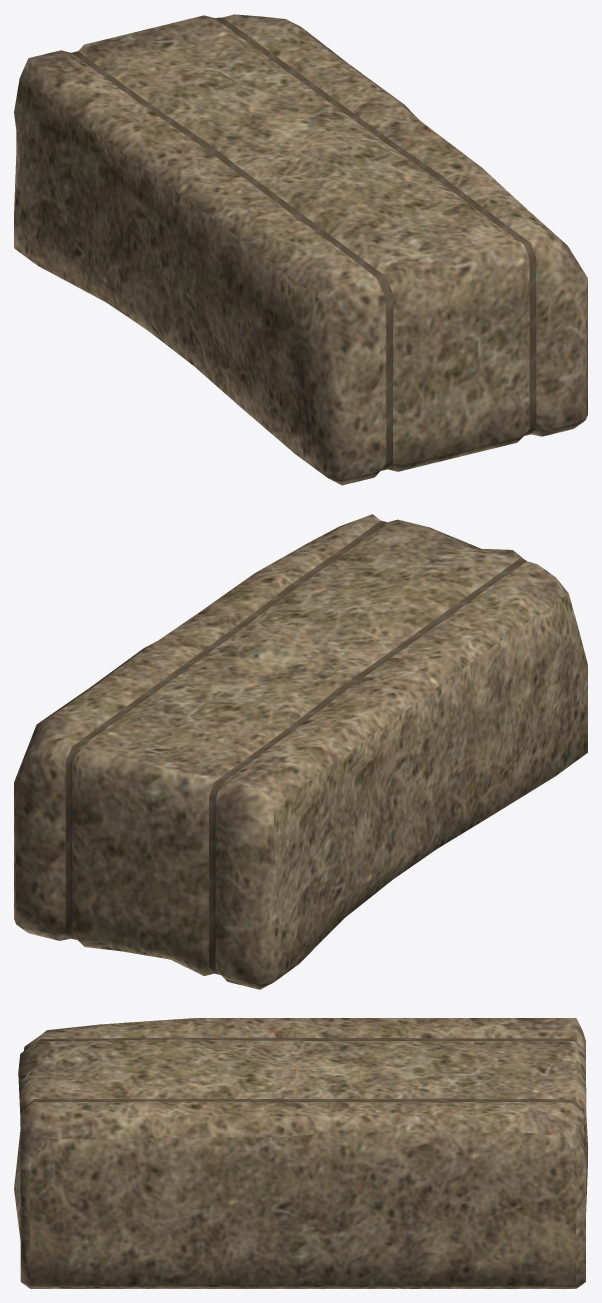
The model's file is hay_S.fbx.
3 views of the same model, one above another, from view 1: azimuth 30°, elevation 25°; view 2: azimuth 150°, elevation 25°; view 3: azimuth 270°, elevation 25° (orthographic). The views are drawn at different scales.
Parts seen in each view (by area): view 1: Cube; view 2: Cube; view 3: Cube.
Boxes of the visible parts, left/top/right/bottom form: Cube: left=14, top=14, right=587, bottom=485; Cube: left=14, top=514, right=587, bottom=989; Cube: left=14, top=1018, right=587, bottom=1288.
Size of the model in its own units: 70.63 by 50.74 by 147.
